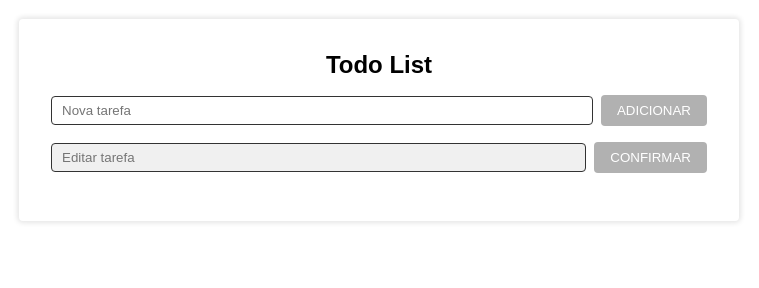
<TodoList /> › can edit new todo
Type "Lavar o carro" into the field with placeholder "Nova tarefa".
click(322, 110); type("Lavar o carro")  # box top-left (51, 96), bottom-right (593, 125)
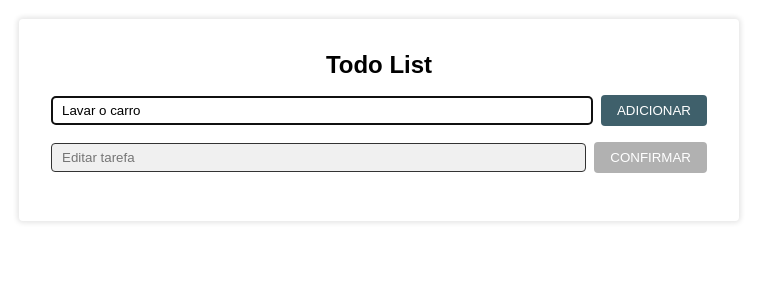
Click the button "ADICIONAR".
click(654, 110)  # box top-left (601, 95), bottom-right (707, 126)
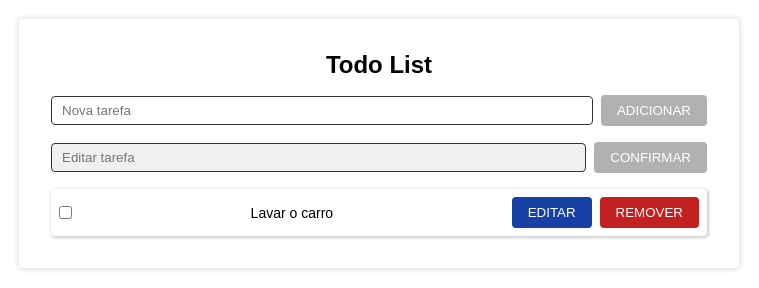
Click the button "EDITAR".
click(552, 212)  # box top-left (512, 197), bottom-right (592, 228)
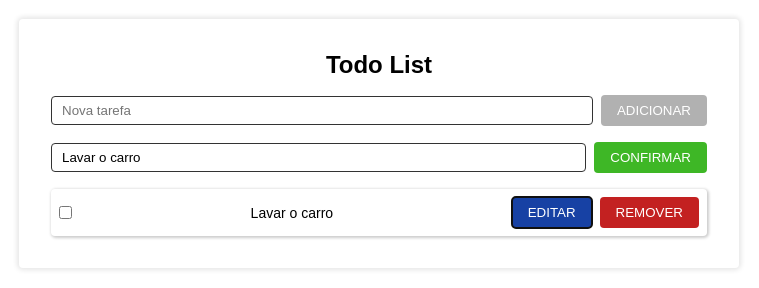
Replace the text in the field with placeholder "Editar tarefa" with "Ir ao mercado" at (319, 158), box top-left (51, 143), bottom-right (586, 172)
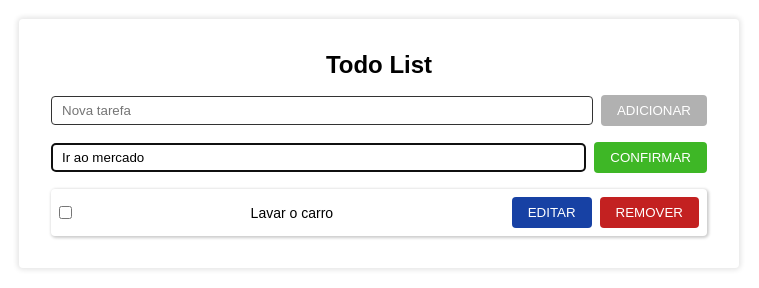
Click the button "CONFIRMAR".
click(651, 158)  # box top-left (594, 142), bottom-right (707, 173)
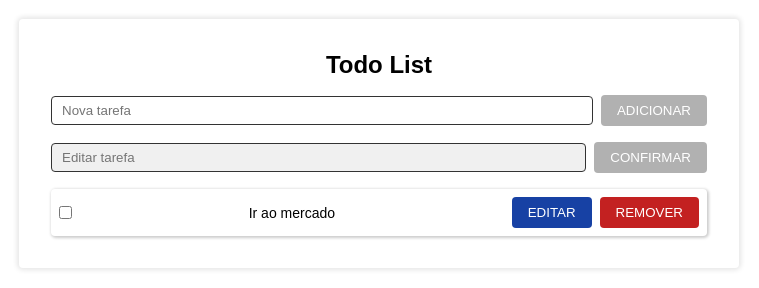
Expected: the text "Lavar o carro" is gone
Expected: the text "Ir ao mercado" is shown, top-left (249, 204), bottom-right (335, 220)
